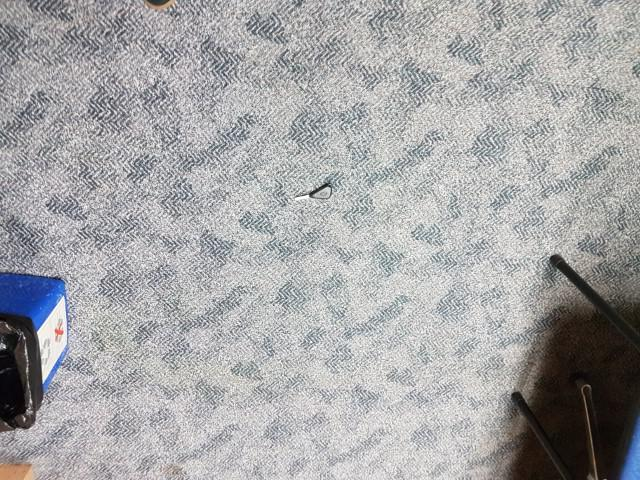key: (292, 180, 337, 207)
